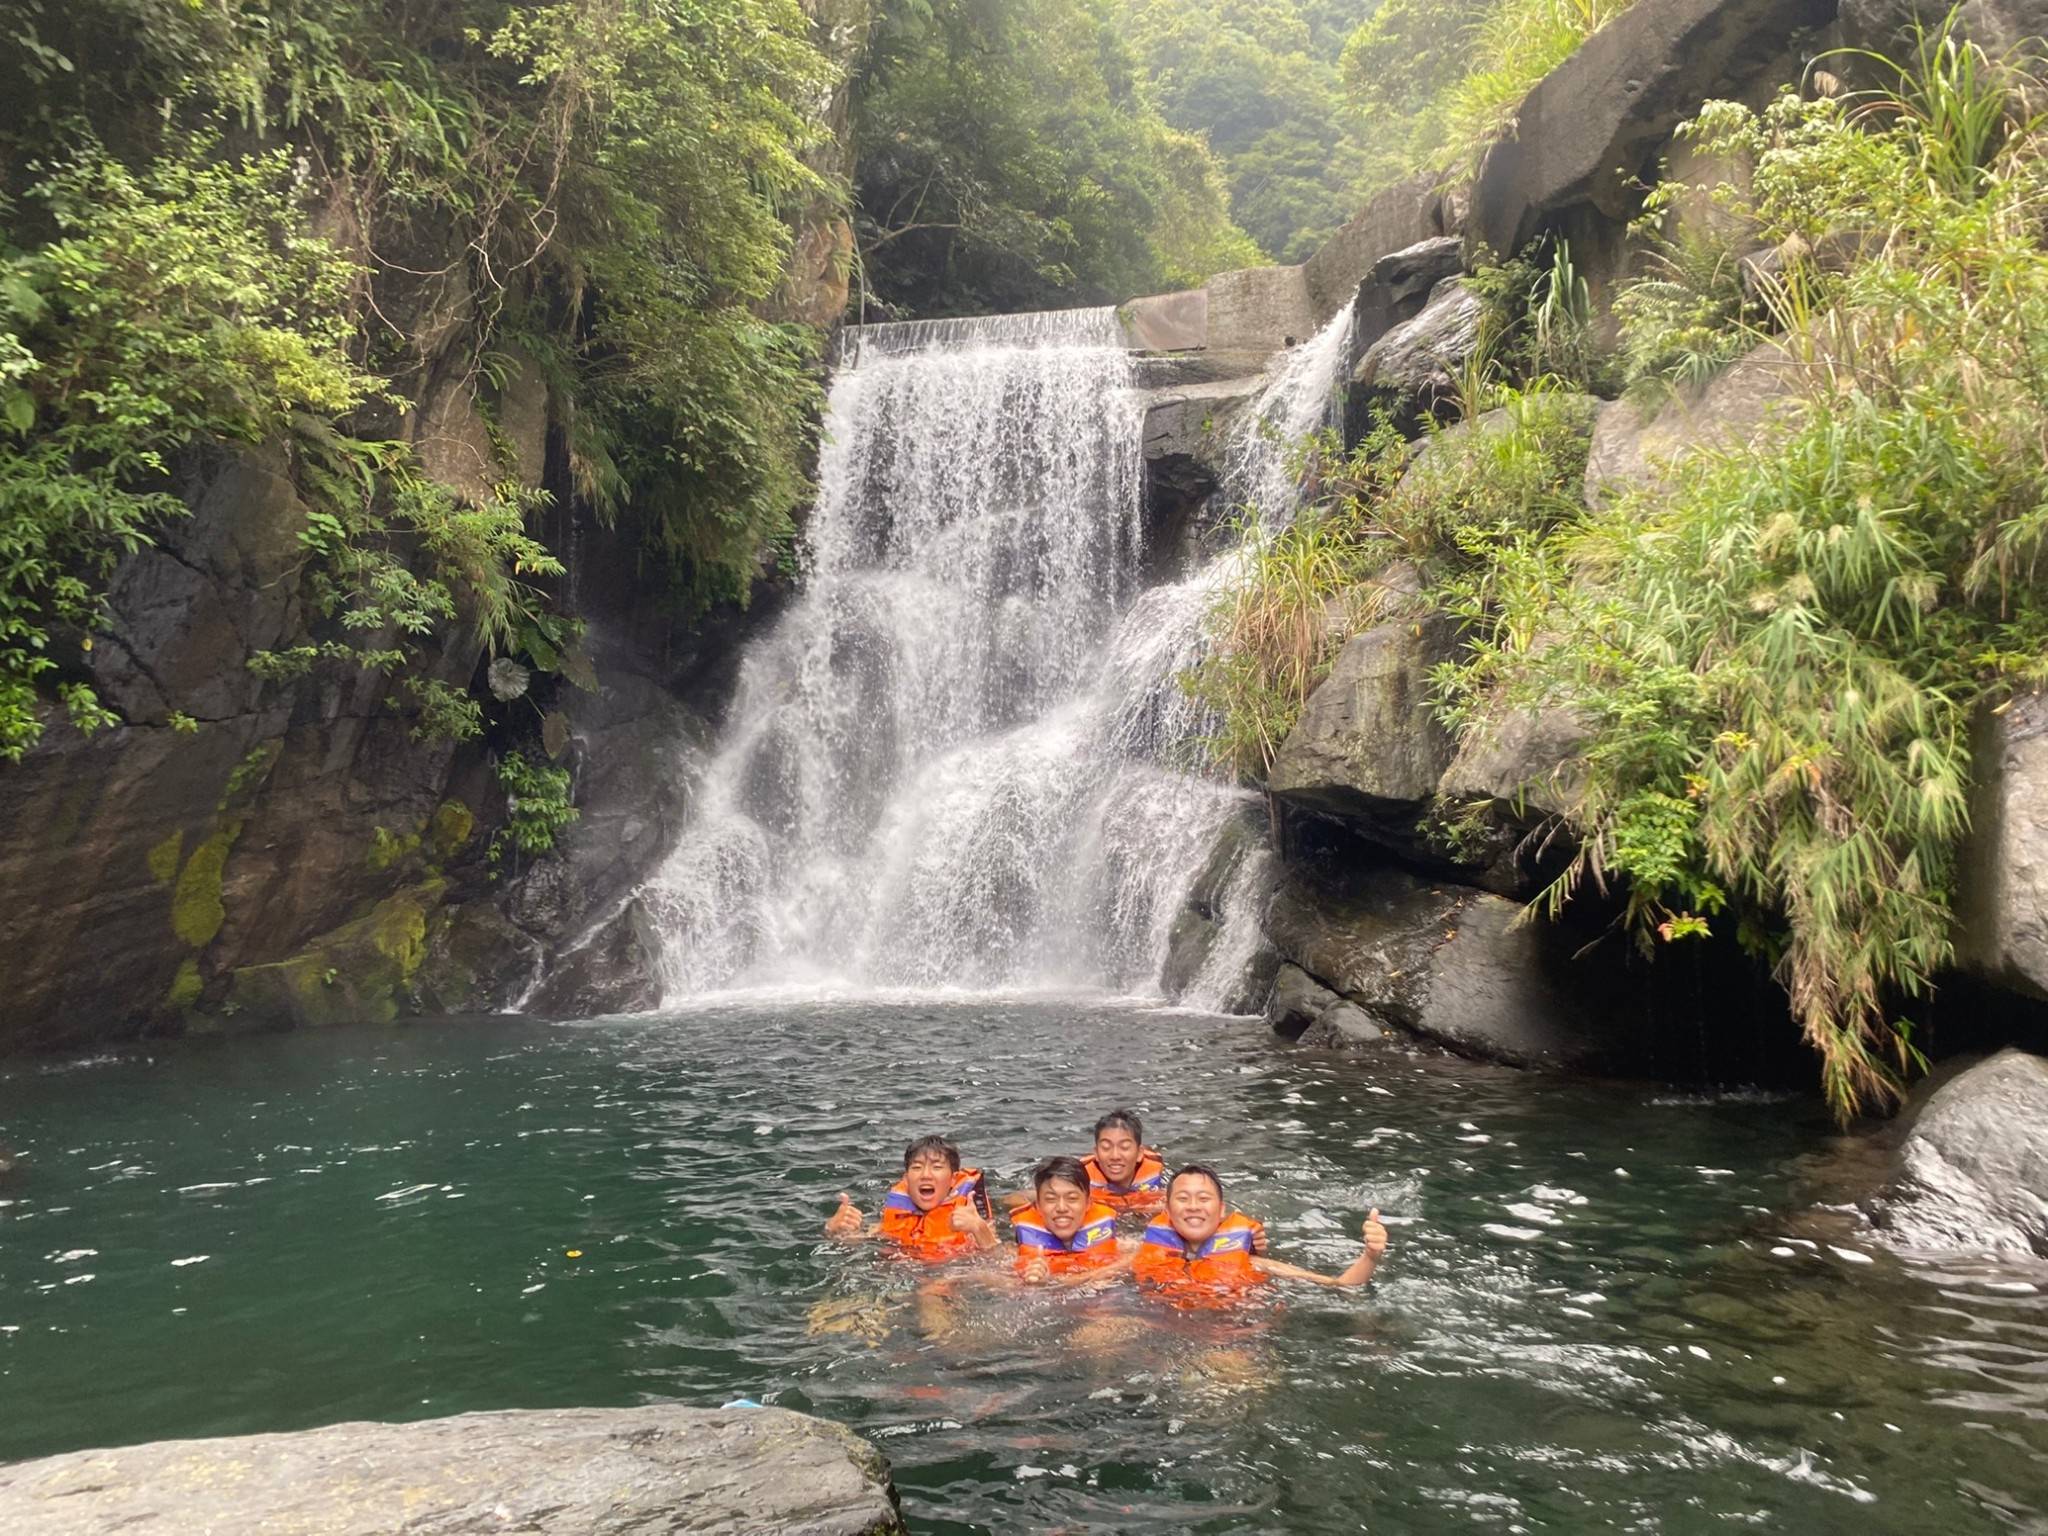people: (1146, 1175, 1281, 1325), (860, 1152, 1002, 1278), (999, 1160, 1131, 1293), (1078, 1113, 1160, 1234)
